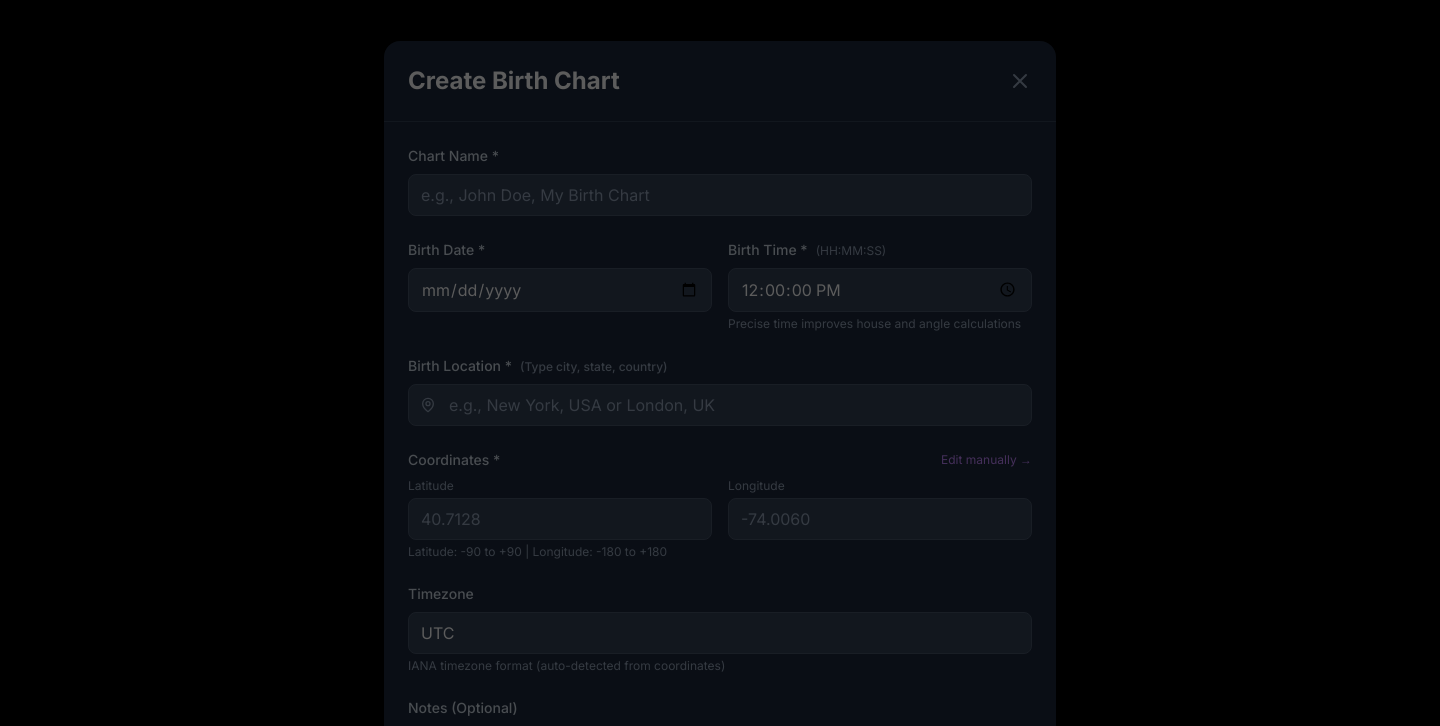
Test case: BirthChartForm - Geocoding Integration › Dropdown Behavior › should close dropdown when clicking outside
Step 1. Type "Barcelona" into the field with placeholder "e.g., New York, USA or London, UK" → [720, 404], box [408, 384, 1032, 426]
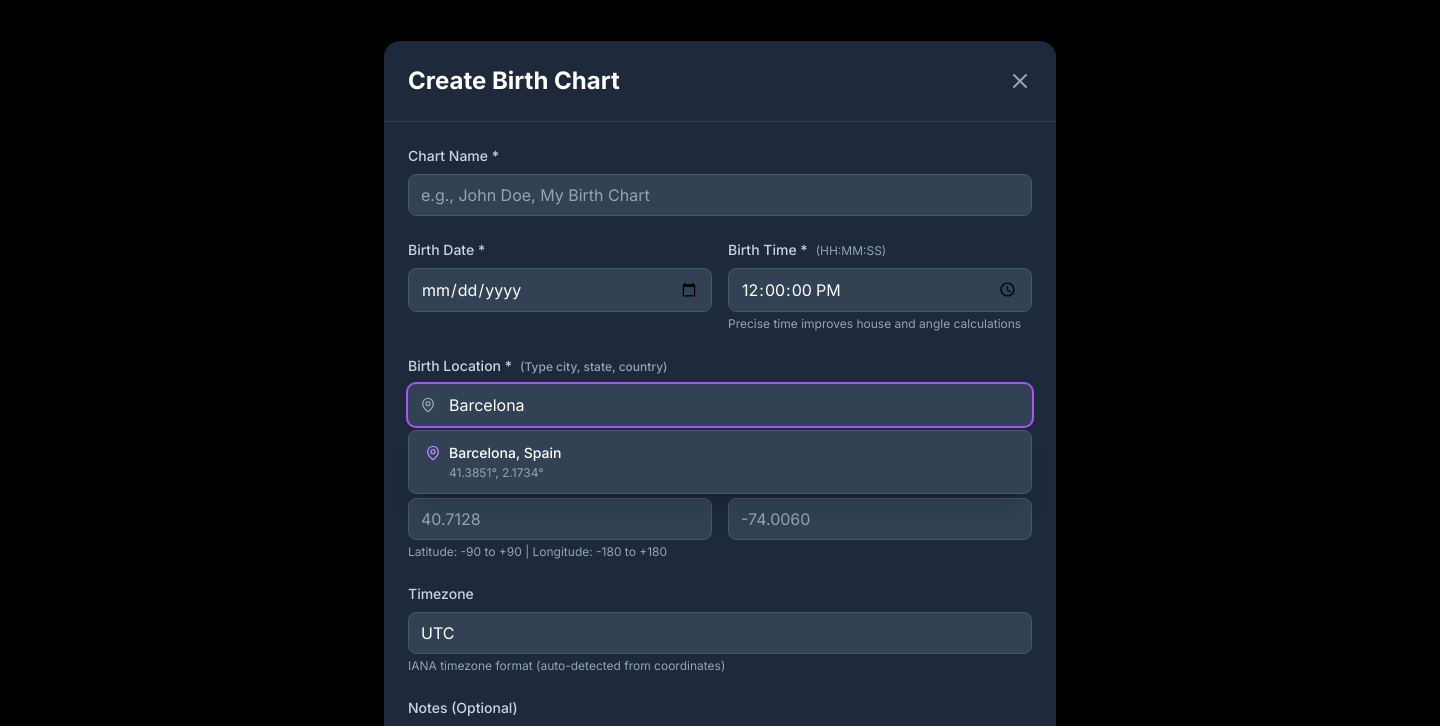
expect the text "Barcelona, Spain" is shown: met, box [449, 444, 562, 460]
// Click outside
Step 2. Click the heading "Create Birth Chart" → [514, 80], box [408, 64, 620, 96]
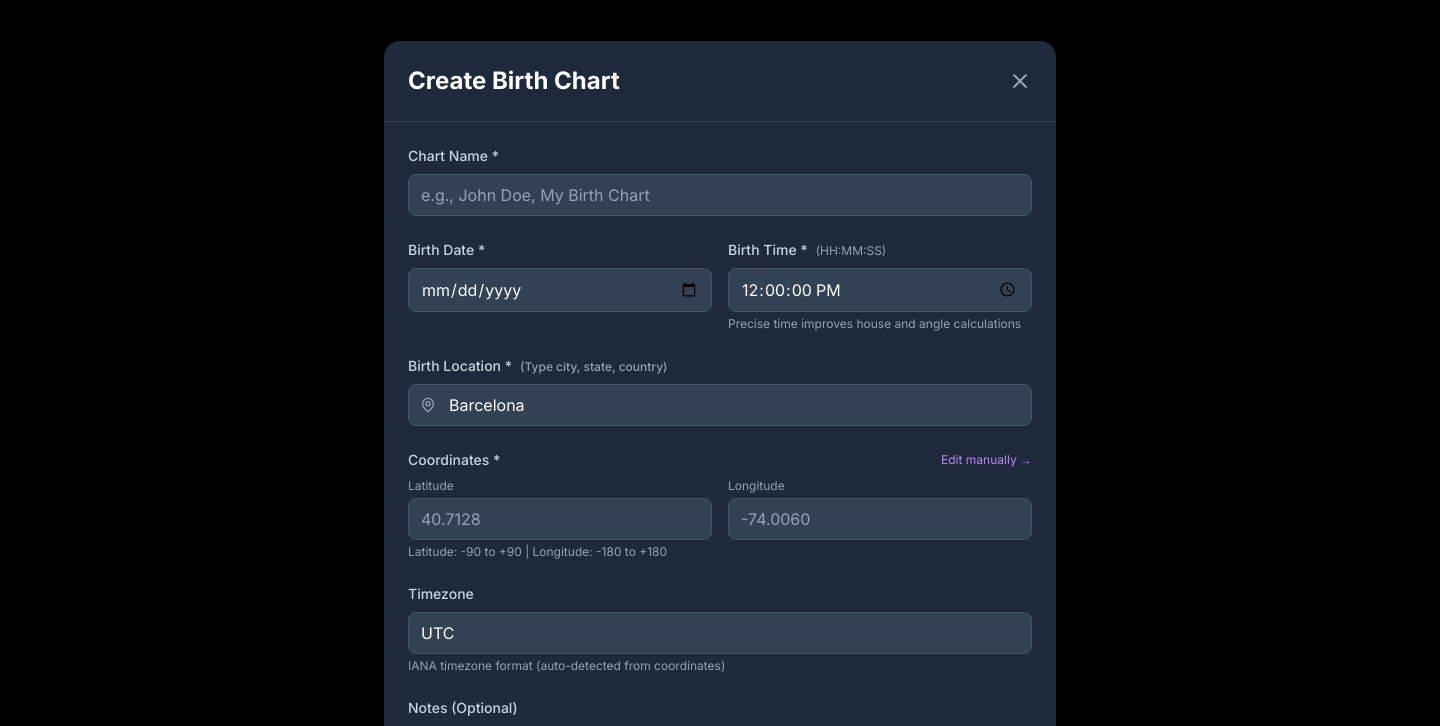
expect the button "Barcelona, Spain" is gone: met
